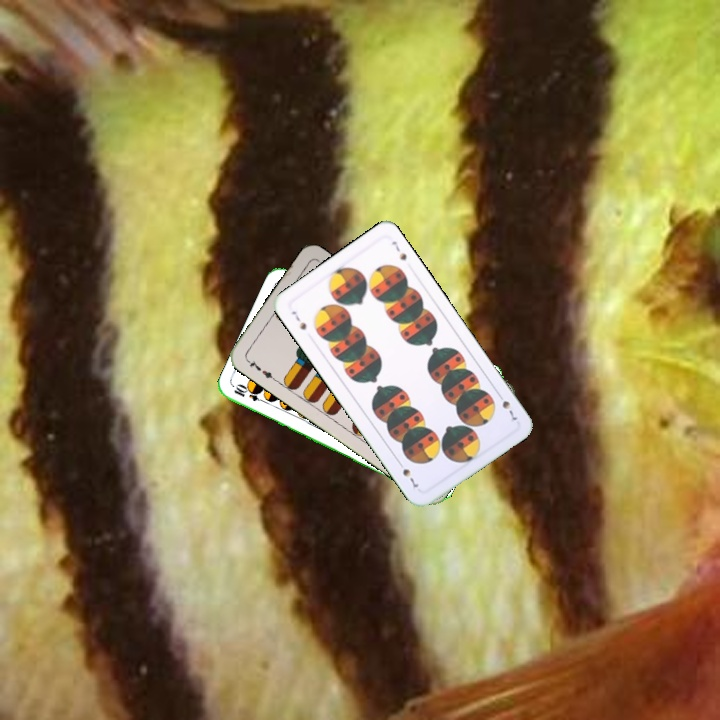E10: (230, 383, 270, 406)
E7: (242, 355, 278, 383)
S7: (493, 388, 521, 425), (287, 307, 309, 333)
